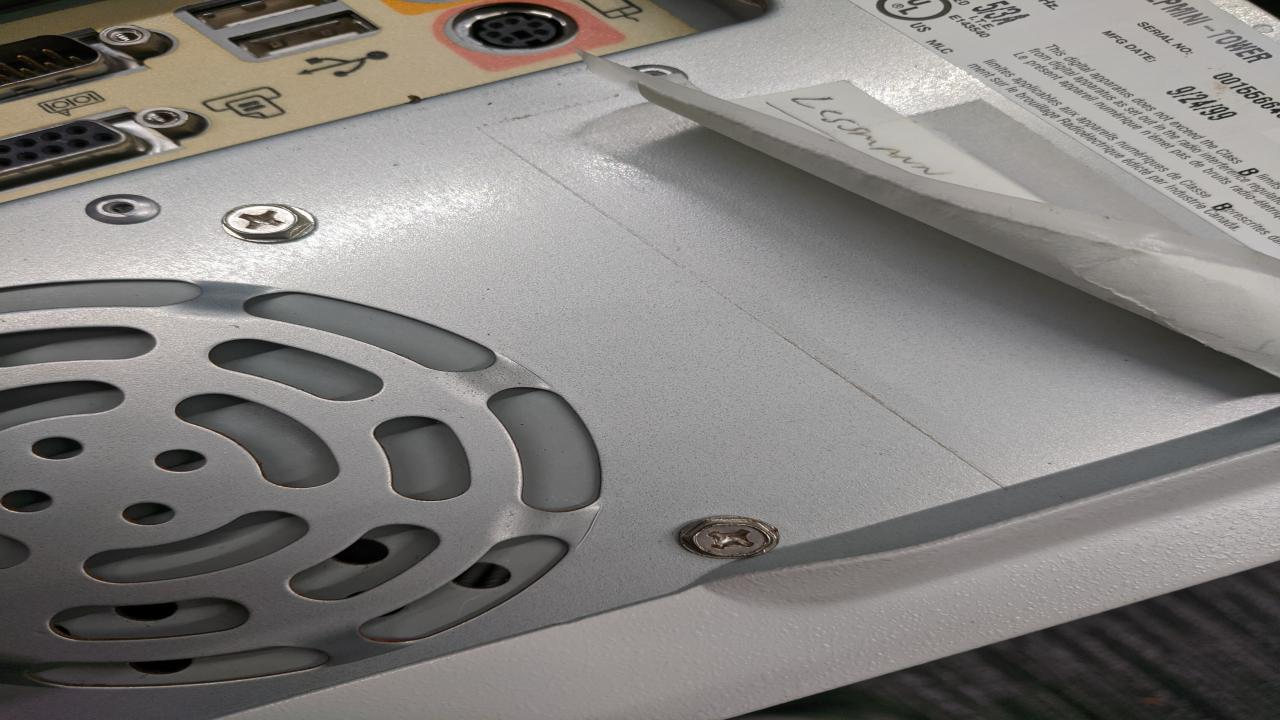CRS: (674, 518, 782, 560), (220, 204, 308, 236)
